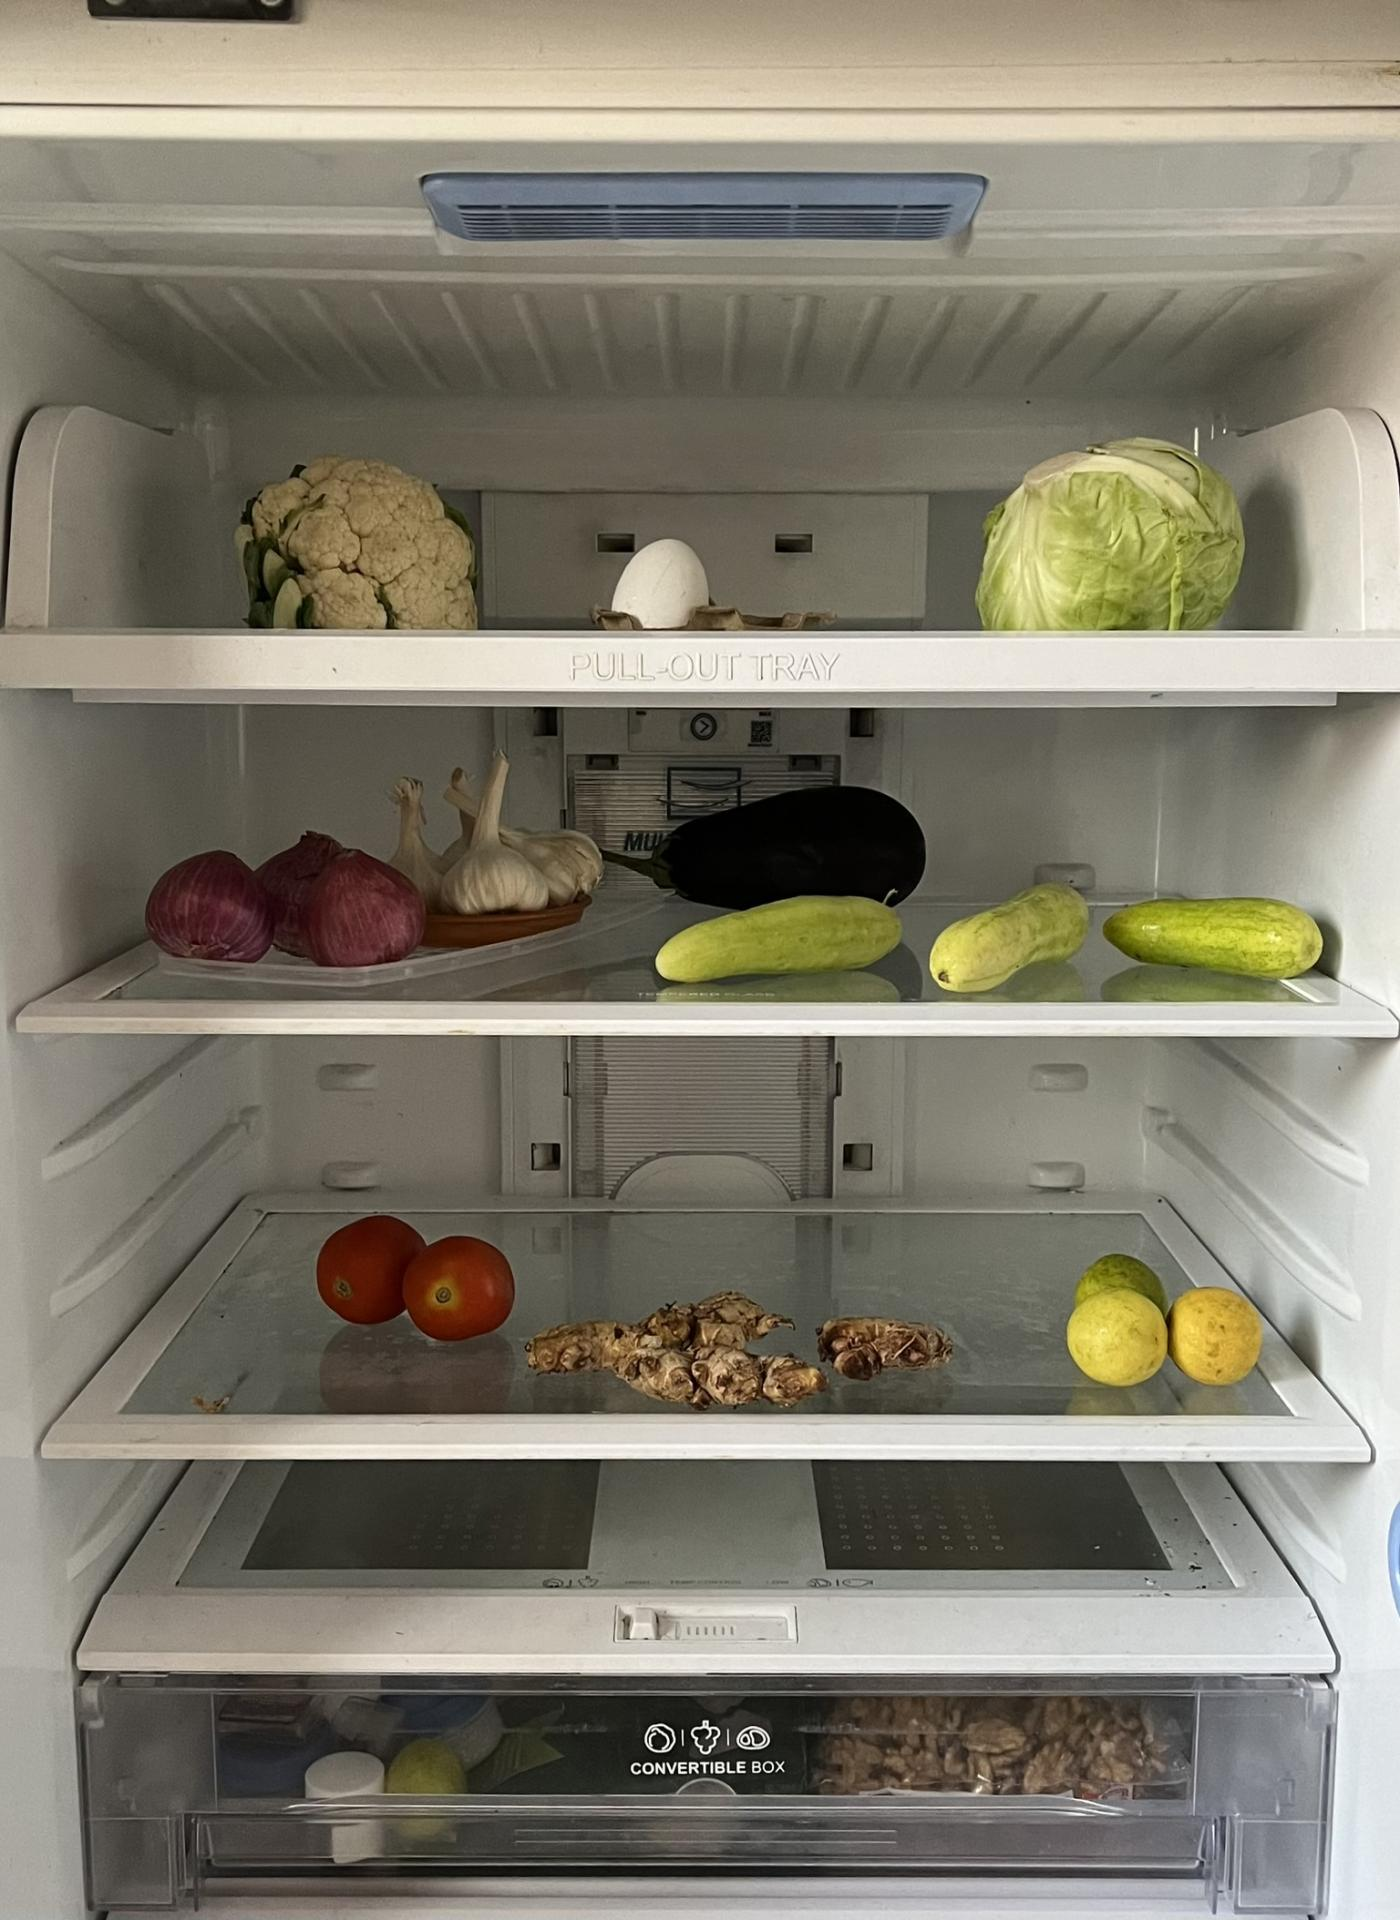brinjal: (637, 783, 936, 908)
cabbage: (971, 435, 1246, 631)
cauliflower: (240, 447, 491, 626)
cucumber: (653, 893, 908, 979), (1099, 891, 1330, 975), (932, 882, 1096, 990)
egg: (604, 529, 719, 629)
garlic: (398, 747, 584, 911)
ginger: (528, 1285, 945, 1404)
lemon: (1065, 1249, 1273, 1395)
onion: (152, 830, 428, 961)
tomato: (324, 1215, 519, 1343)
